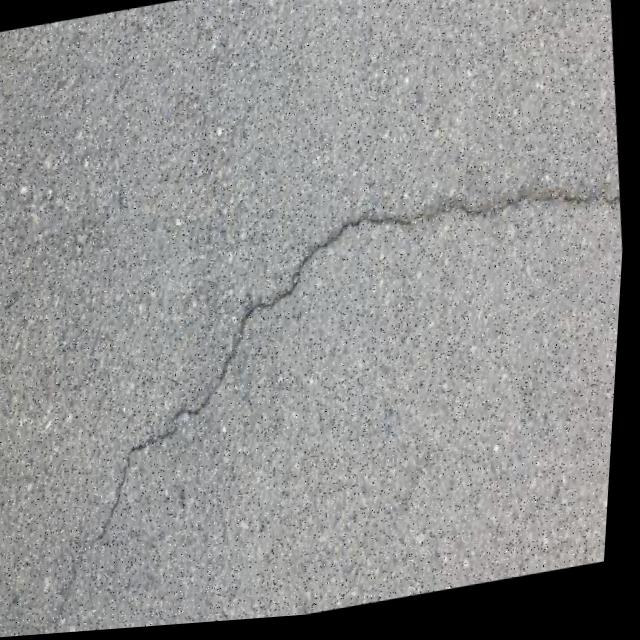Crack: (8, 162, 631, 638)
